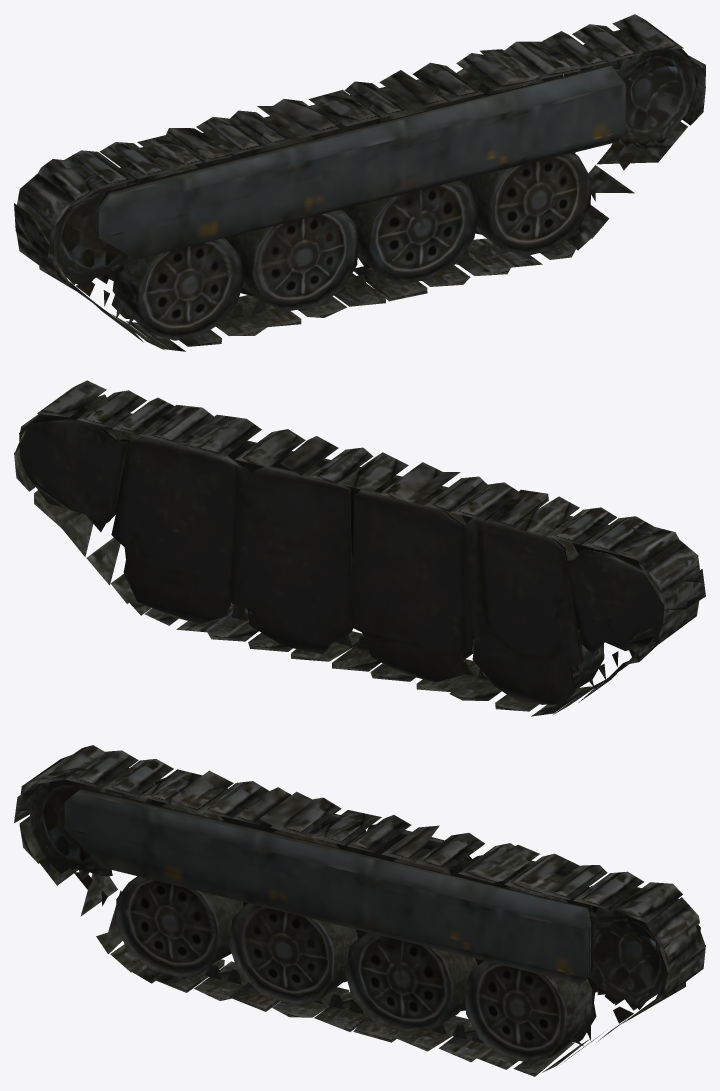
The model's file is enemy_tank_track.glb.
3 renders of one model, top to bottom at view 1: azimuth 30°, elevation 25°; view 2: azimuth 150°, elevation 25°; view 3: azimuth 330°, elevation 25°, orthographic.
Parts seen in each view (by area): view 1: geometry_0; view 2: geometry_0; view 3: geometry_0.
Boxes of the visible parts, box(x1,y1,x2,y2) form: geometry_0: box(14, 14, 705, 351); geometry_0: box(14, 380, 705, 716); geometry_0: box(14, 745, 705, 1076).
Size of the model in its own units: 0.9414 by 0.2656 by 0.0972.
1 material, 1 textured.
